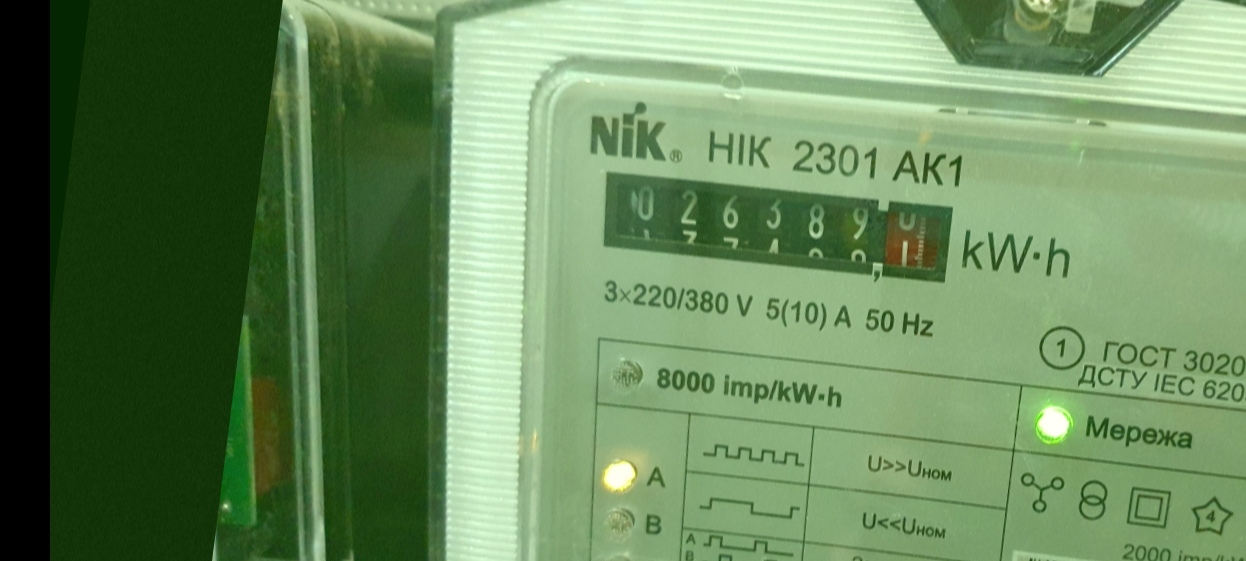0: (634, 181, 662, 223), (898, 209, 919, 232)
1: (898, 236, 915, 268)
2: (678, 186, 706, 227)
3: (765, 195, 786, 232)
6: (722, 190, 744, 231)
8: (806, 200, 832, 241)
9: (850, 205, 872, 241)
screen: (584, 150, 973, 302)
